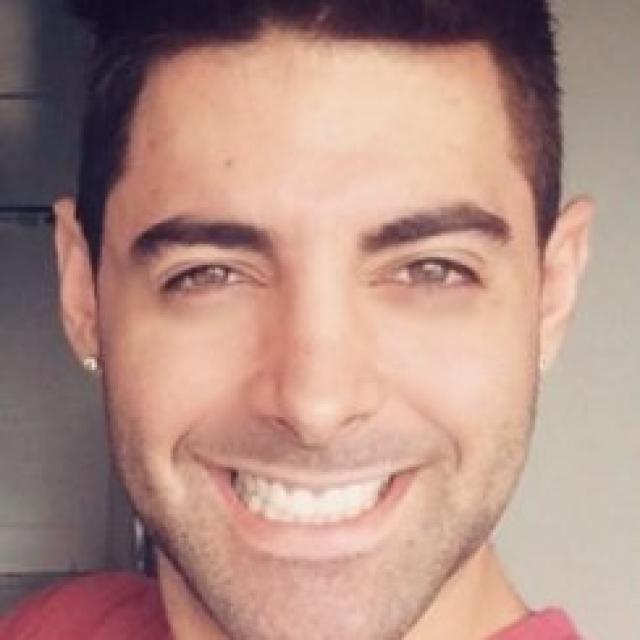Normal: (100, 46, 541, 637)
